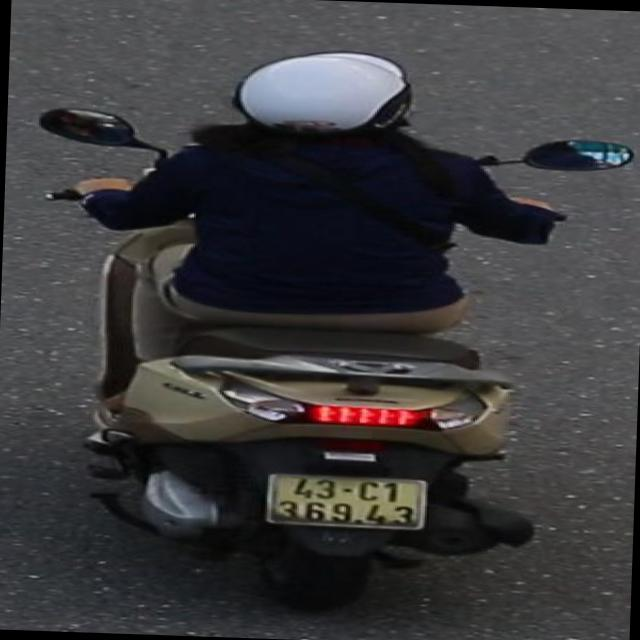LP: (256, 466, 437, 535)
helmet: (227, 42, 433, 160)
